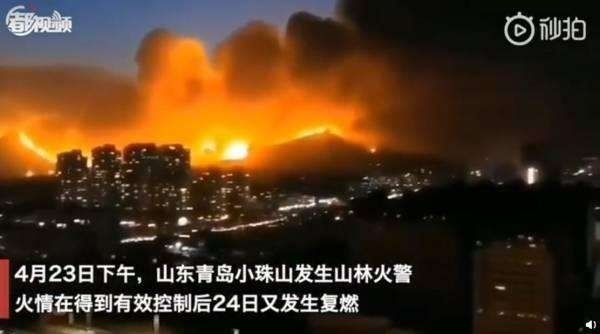fire: (196, 116, 361, 163), (15, 128, 56, 165)
